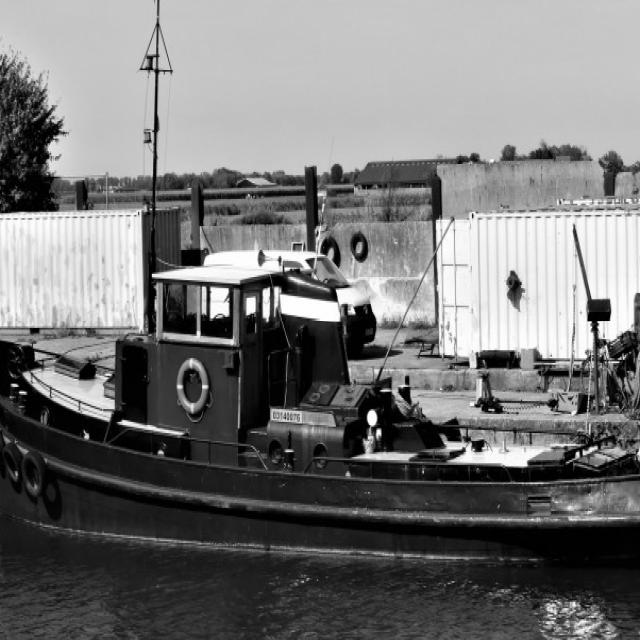tugboat: (1, 240, 640, 598)
